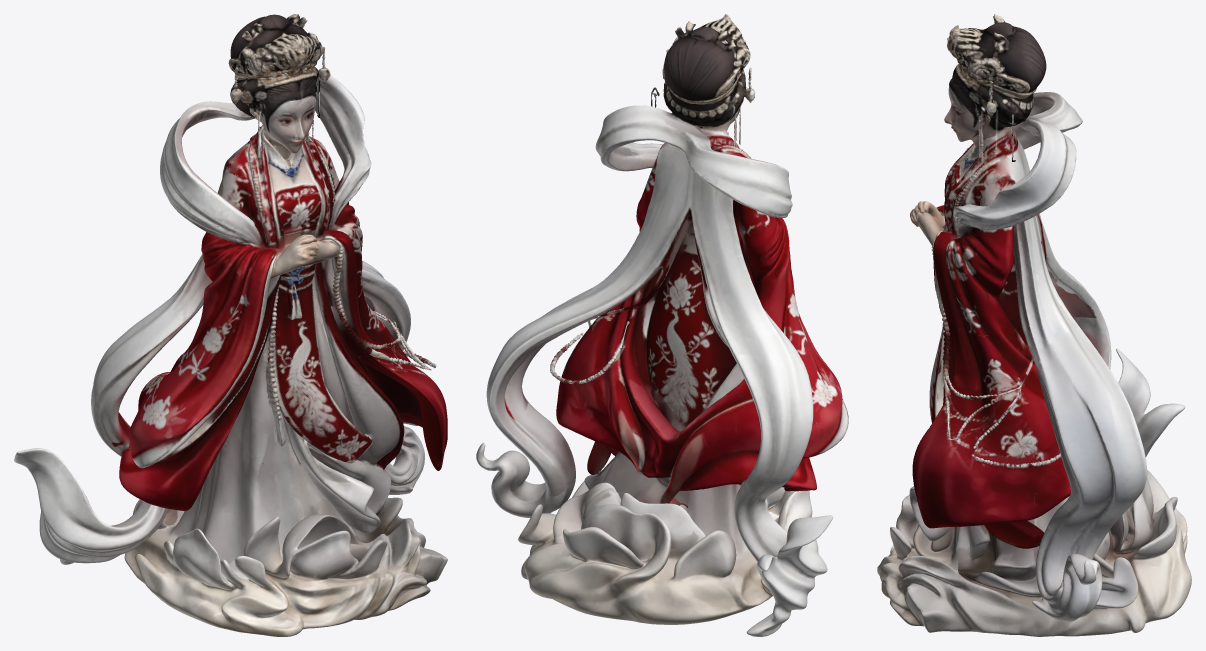
File: queen.glb
The picture shows the model from 3 angles, left to right: view 1: azimuth 30°, elevation 25°; view 2: azimuth 150°, elevation 25°; view 3: azimuth 270°, elevation 25°; orthographic projection. The views are drawn at different scales.
Parts seen in each view (by area): view 1: tmpck4h4b8zobj; view 2: tmpck4h4b8zobj; view 3: tmpck4h4b8zobj.
Part boxes in pixels (x1,y1,x2,y2): tmpck4h4b8zobj: [14, 14, 447, 636]; tmpck4h4b8zobj: [476, 14, 848, 636]; tmpck4h4b8zobj: [877, 14, 1191, 636].
Size of the model in its own units: 0.73 by 1 by 0.517.
Materials: 1 (1 with a texture image).
